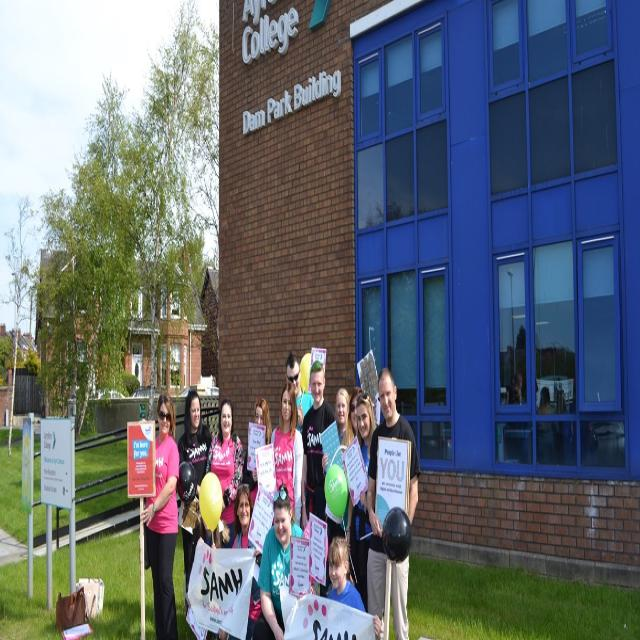body: (364, 363, 420, 639), (496, 355, 623, 474), (139, 389, 180, 639), (177, 387, 213, 621), (252, 482, 304, 640), (345, 390, 377, 614), (320, 385, 354, 595), (301, 358, 341, 534), (324, 534, 382, 640), (205, 397, 245, 550), (231, 481, 264, 640), (269, 380, 303, 529), (188, 512, 222, 640), (241, 396, 273, 494), (284, 353, 316, 434), (345, 386, 363, 448)
